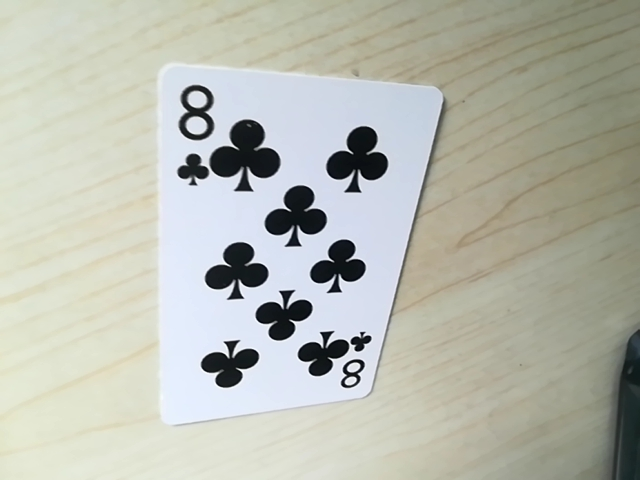mh 8: (162, 72, 224, 187), (326, 342, 375, 395)
